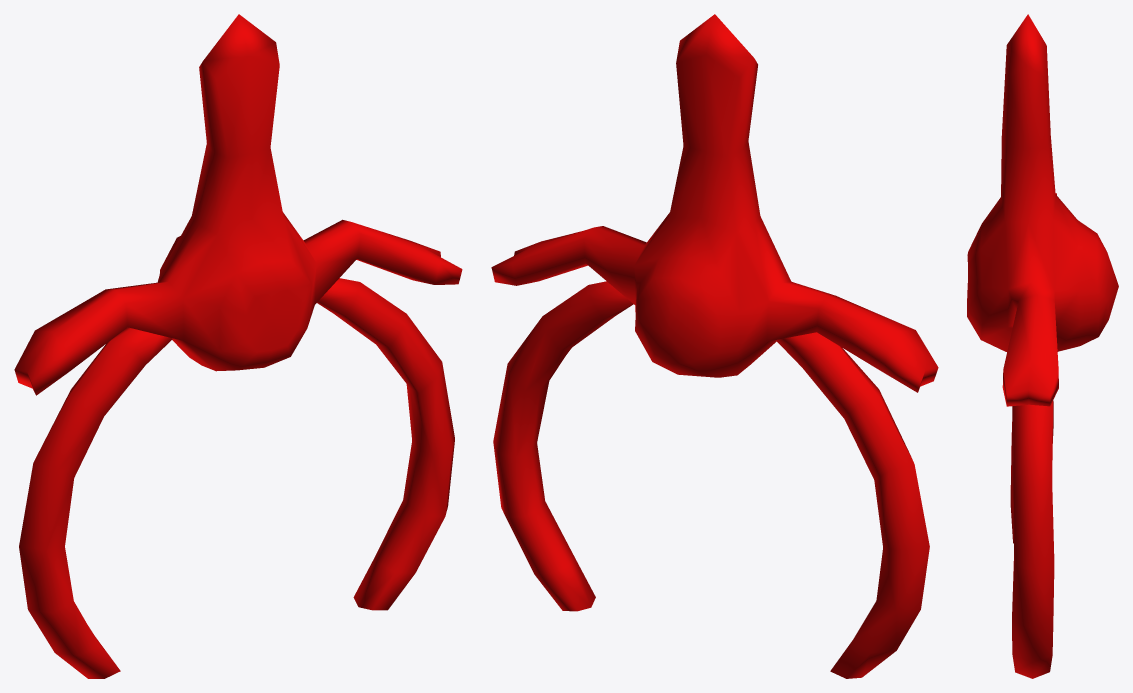
Rendered from espina_4.fbx.
3 renders of one model, left to right at view 1: azimuth 30°, elevation 25°; view 2: azimuth 150°, elevation 25°; view 3: azimuth 270°, elevation 25°, orthographic. The views are drawn at different scales.
Parts seen in each view (by area): view 1: polySurface67; view 2: polySurface67; view 3: polySurface67.
Part boxes in pixels (<box>): polySurface67: <box>14,14,462,678</box>; polySurface67: <box>491,14,938,678</box>; polySurface67: <box>967,14,1118,678</box>.
Bounding box in the file's own units: 7.78 × 10.7 × 2.47.
